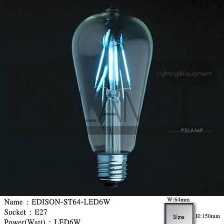light_bulb: (65, 3, 154, 195)
